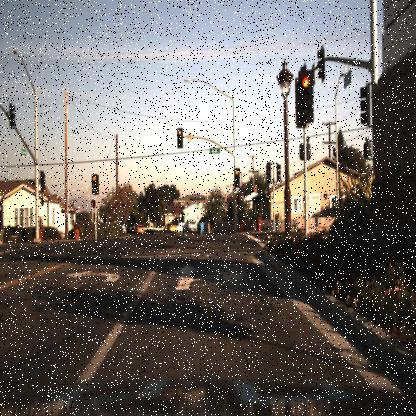car: (182, 218, 199, 237), (135, 219, 148, 238), (162, 223, 178, 238), (162, 220, 178, 235), (126, 218, 138, 236), (134, 220, 145, 236)
trafficLight-Red: (297, 64, 315, 130), (299, 75, 313, 96), (90, 170, 100, 196), (176, 125, 184, 150), (233, 169, 241, 194), (89, 172, 100, 184), (232, 166, 240, 182), (176, 127, 184, 139)
